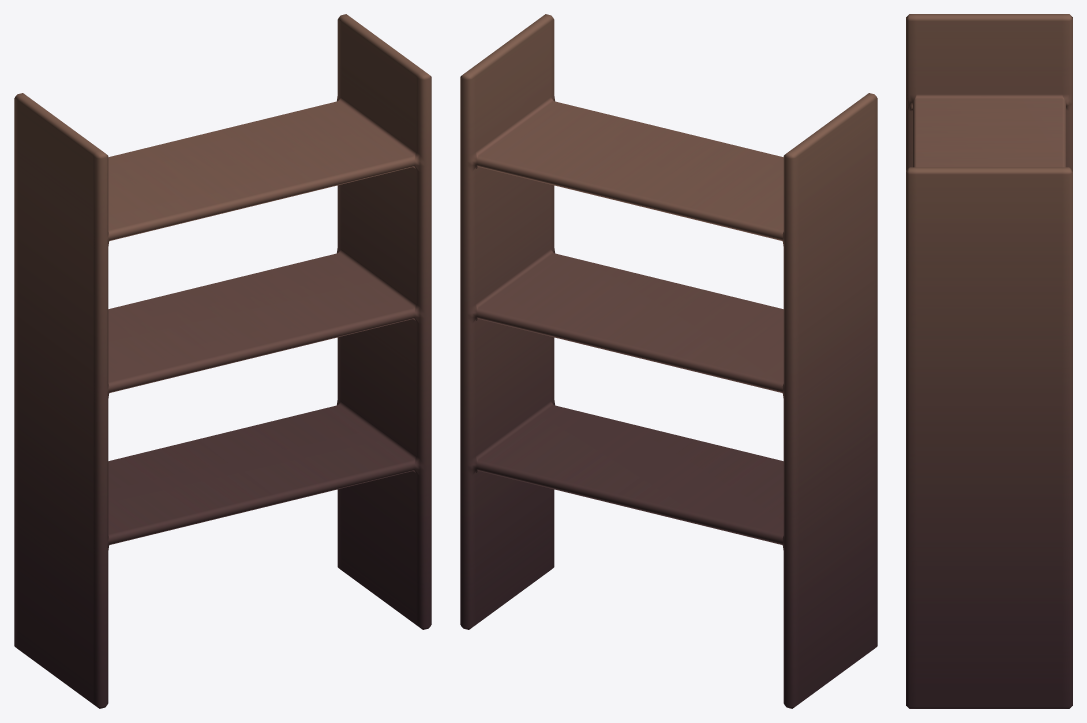
File: Estante.fbx
3 renders of one model, left to right at view 1: azimuth 30°, elevation 25°; view 2: azimuth 150°, elevation 25°; view 3: azimuth 270°, elevation 25°, orthographic. The views are drawn at different scales.
Parts seen in each view (by area): view 1: Cube.002; view 2: Cube.002; view 3: Cube.002.
Part boxes in pixels (x1,y1,x2,y2): Cube.002: (14,14,431,708); Cube.002: (460,14,877,708); Cube.002: (906,14,1072,708).
Bounding box in the file's own units: 157 × 249 × 69.65.
